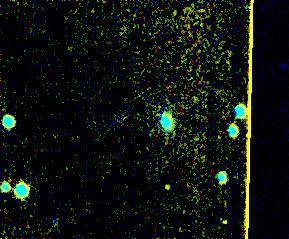star: (155, 171, 185, 201)
